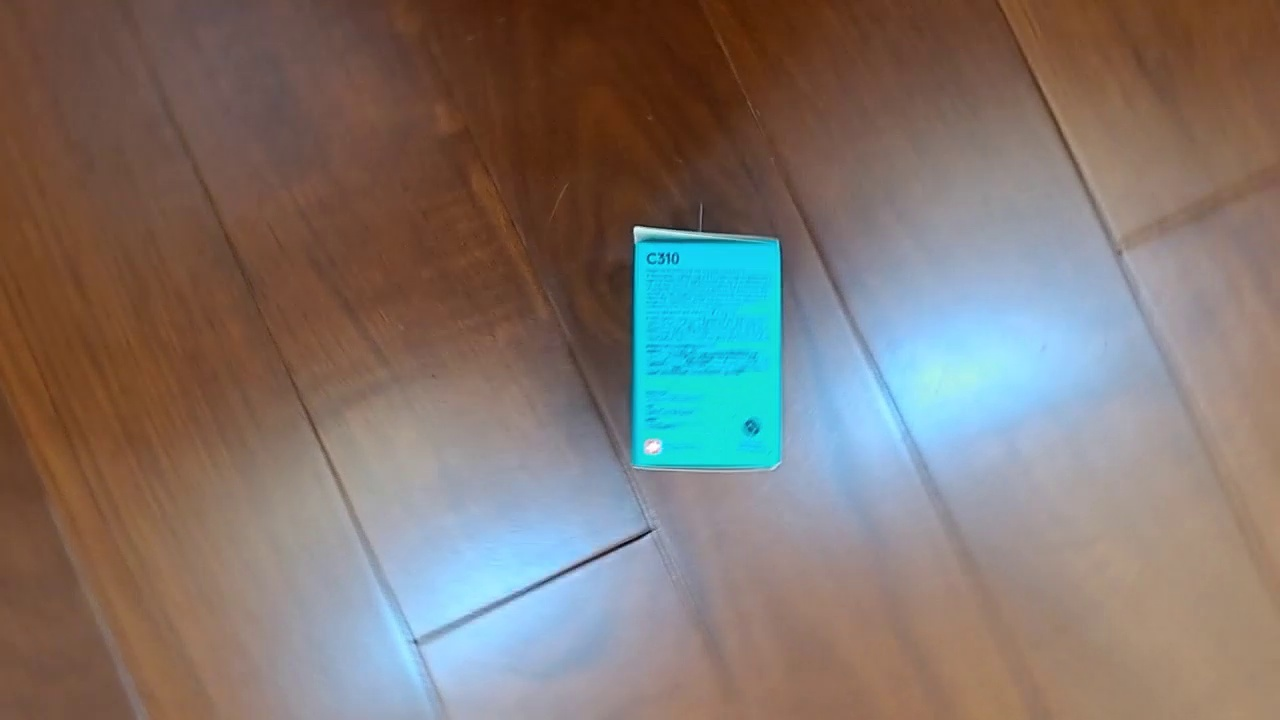webcam: (629, 221, 785, 474)
